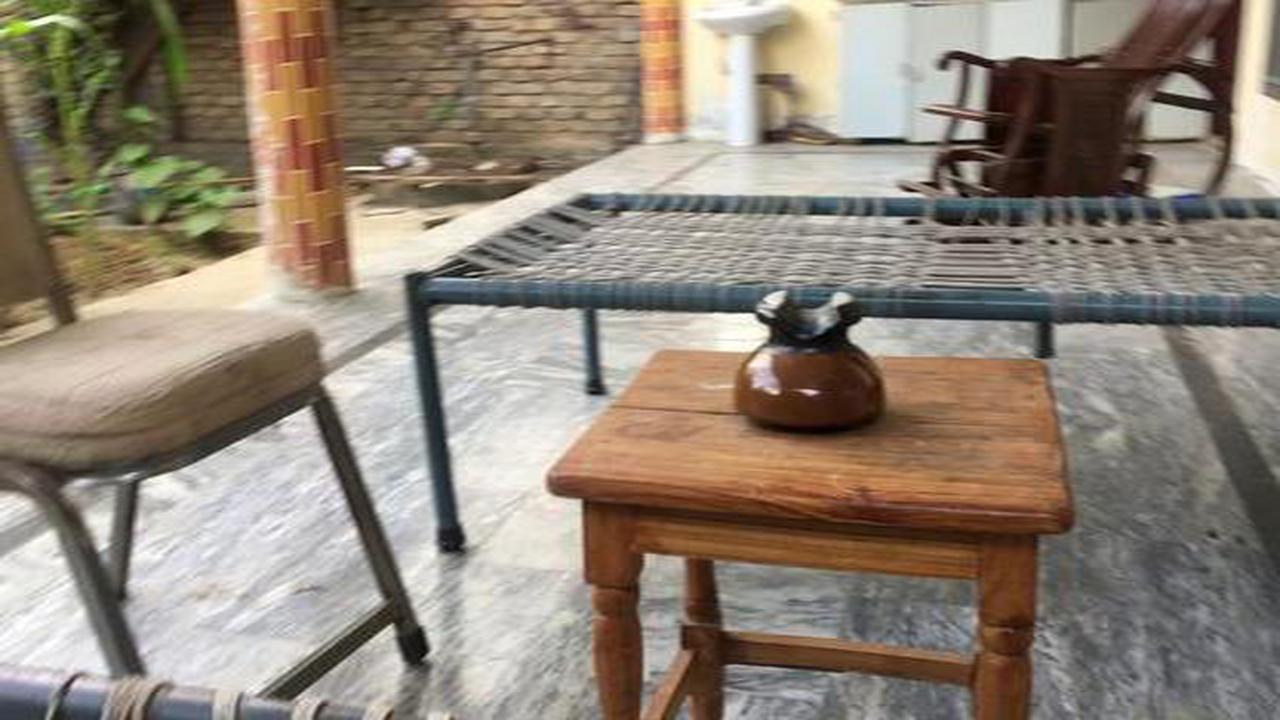insulator_pin: (711, 269, 899, 444)
